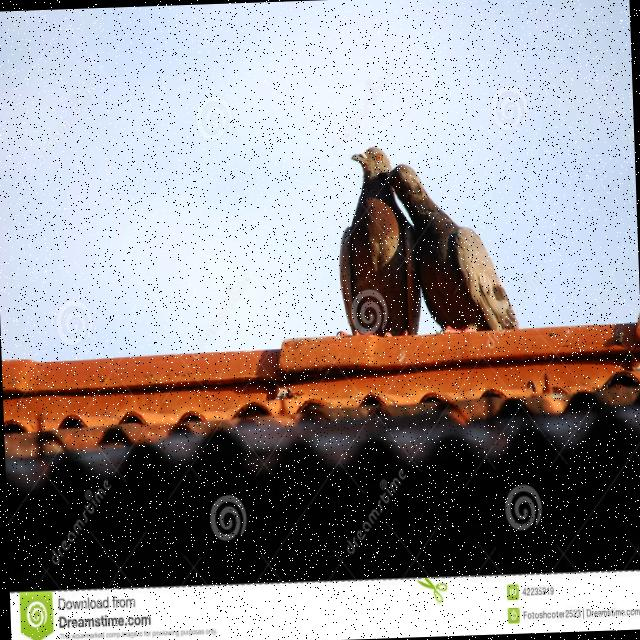bird: (332, 140, 520, 340)
